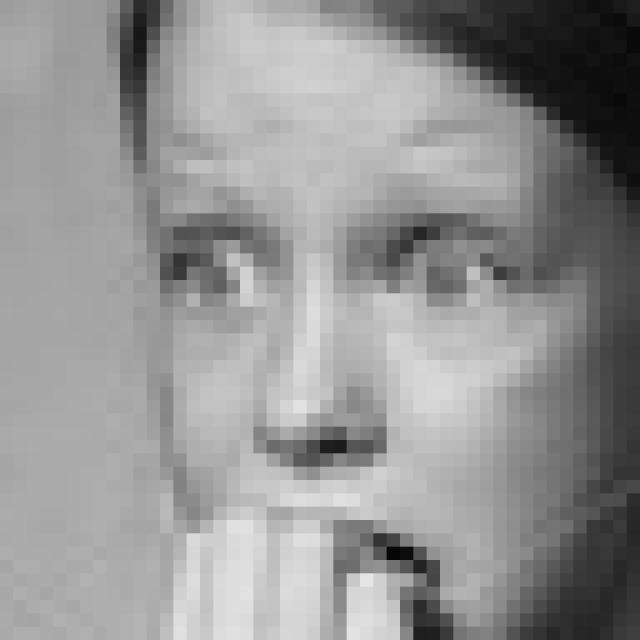fear: (161, 197, 567, 597)
